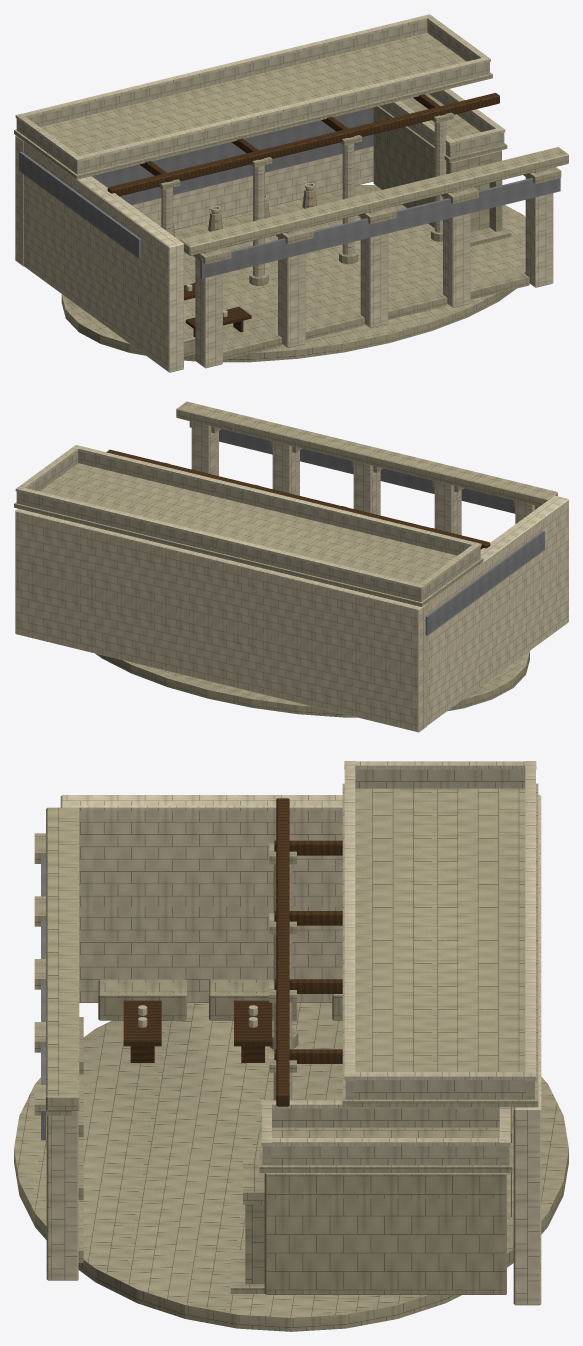
The model's file is library-israelite-618a32d5.glb.
3 views of the same model, one above another, from view 1: azimuth 30°, elevation 25°; view 2: azimuth 150°, elevation 25°; view 3: azimuth 270°, elevation 25° (orthographic). The views are drawn at different scales.
Parts seen in each view (by area): view 1: LOD0; view 2: LOD0; view 3: LOD0.
Part boxes in pixels (bbox=[...]): LOD0: bbox=[14, 14, 568, 372]; LOD0: bbox=[14, 401, 568, 732]; LOD0: bbox=[14, 761, 568, 1331].
Size of what is drawn, in the model's own units: 1.89 by 0.632 by 1.31.
2 materials, 2 textured.
